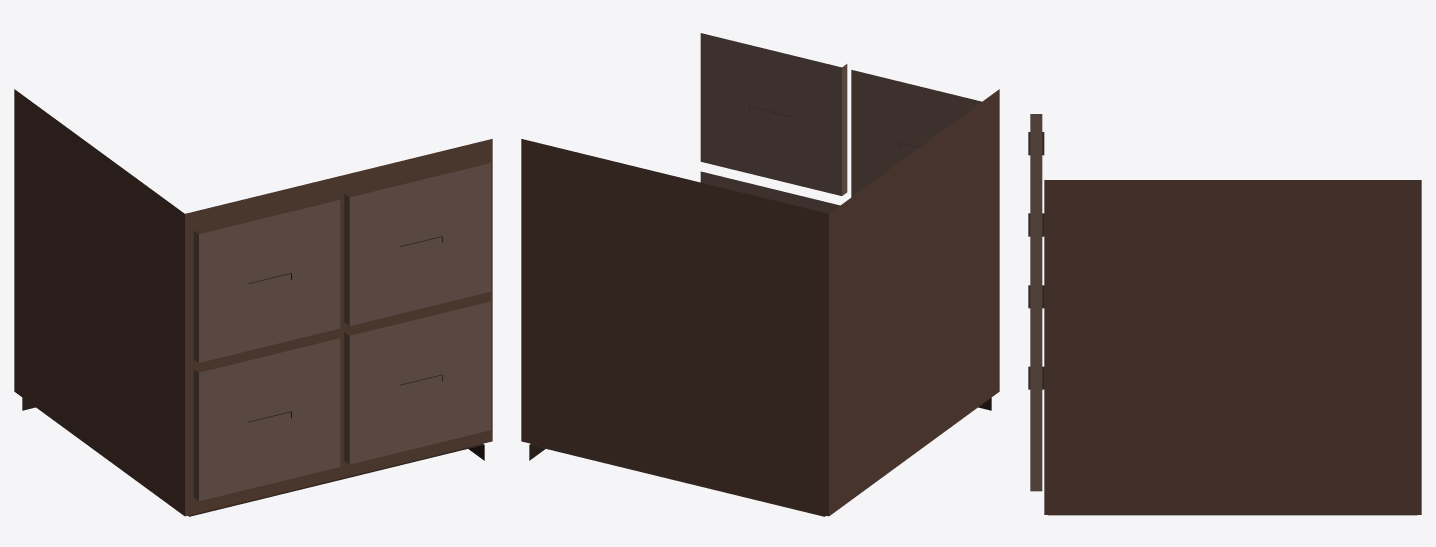
File: Storage-walnut.glb
The picture shows the model from 3 angles, left to right: view 1: azimuth 30°, elevation 25°; view 2: azimuth 150°, elevation 25°; view 3: azimuth 270°, elevation 25°; orthographic projection. The views are drawn at different scales.
Parts seen in each view (by area): view 1: Storage; view 2: Storage; view 3: Storage.
Boxes of the visible parts, <box> form: Storage: <box>14,89,492,516</box>; Storage: <box>521,33,999,516</box>; Storage: <box>1028,114,1421,515</box>.
Bounding box in the file's own units: 1 × 1 × 1.
